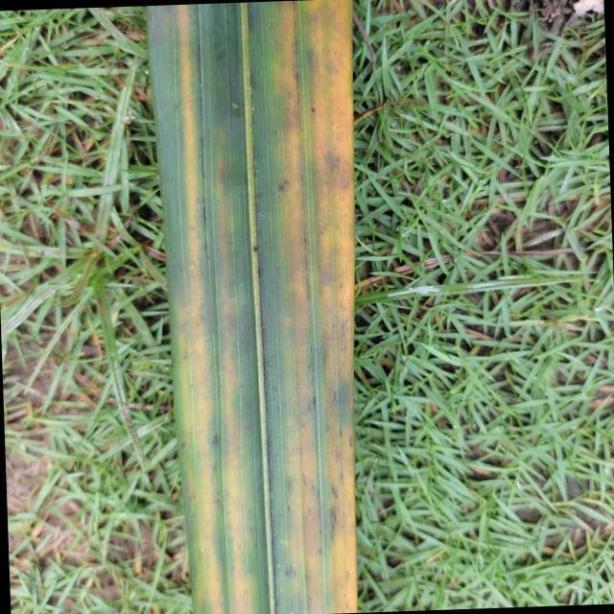Megnesium: (147, 0, 355, 614)
